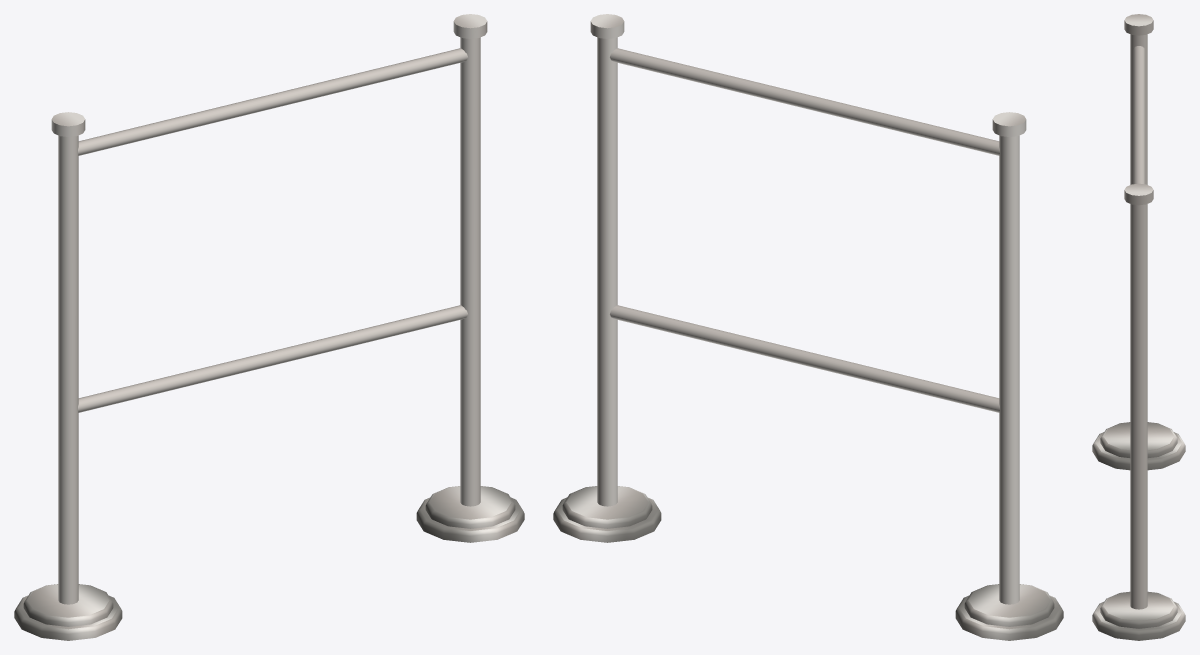
Rendered from sp_passcheckbox_2.FBX.
The picture shows the model from 3 angles, left to right: view 1: azimuth 30°, elevation 25°; view 2: azimuth 150°, elevation 25°; view 3: azimuth 270°, elevation 25°; orthographic projection. The views are drawn at different scales.
Parts seen in each view (by area): view 1: sp_passcheckbox_2; view 2: sp_passcheckbox_2; view 3: sp_passcheckbox_2.
Part boxes in pixels (x1,y1,x2,y2): sp_passcheckbox_2: (14,14,524,640); sp_passcheckbox_2: (553,14,1063,640); sp_passcheckbox_2: (1092,14,1185,640).
Size of the model in its own units: 25 by 4.72 by 24.05.
